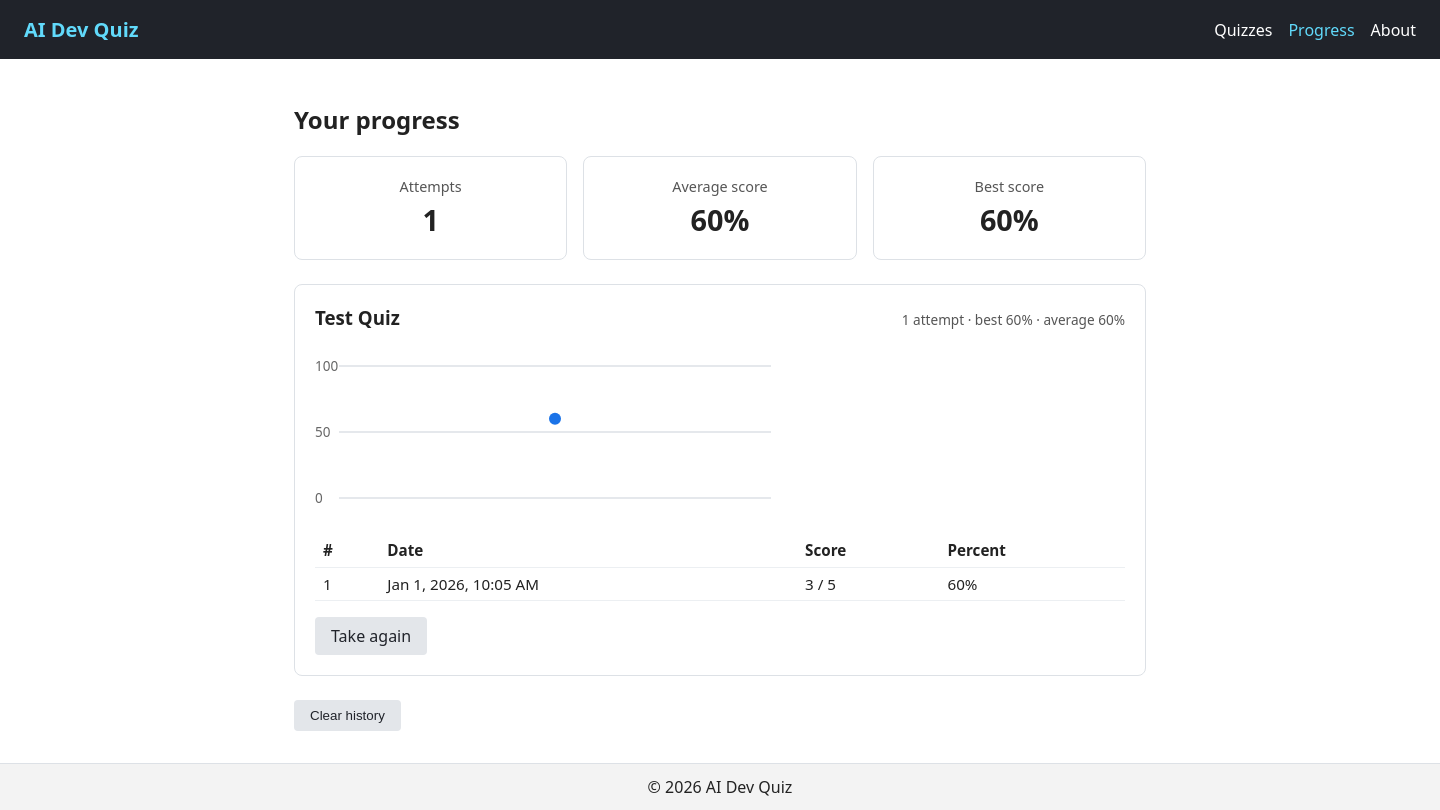
Test case: Progress page › clears history after confirmation
This screenshot has width=1440, height=810.
Click the button "Clear history".
click(347, 716)  # box [294,700,401,731]
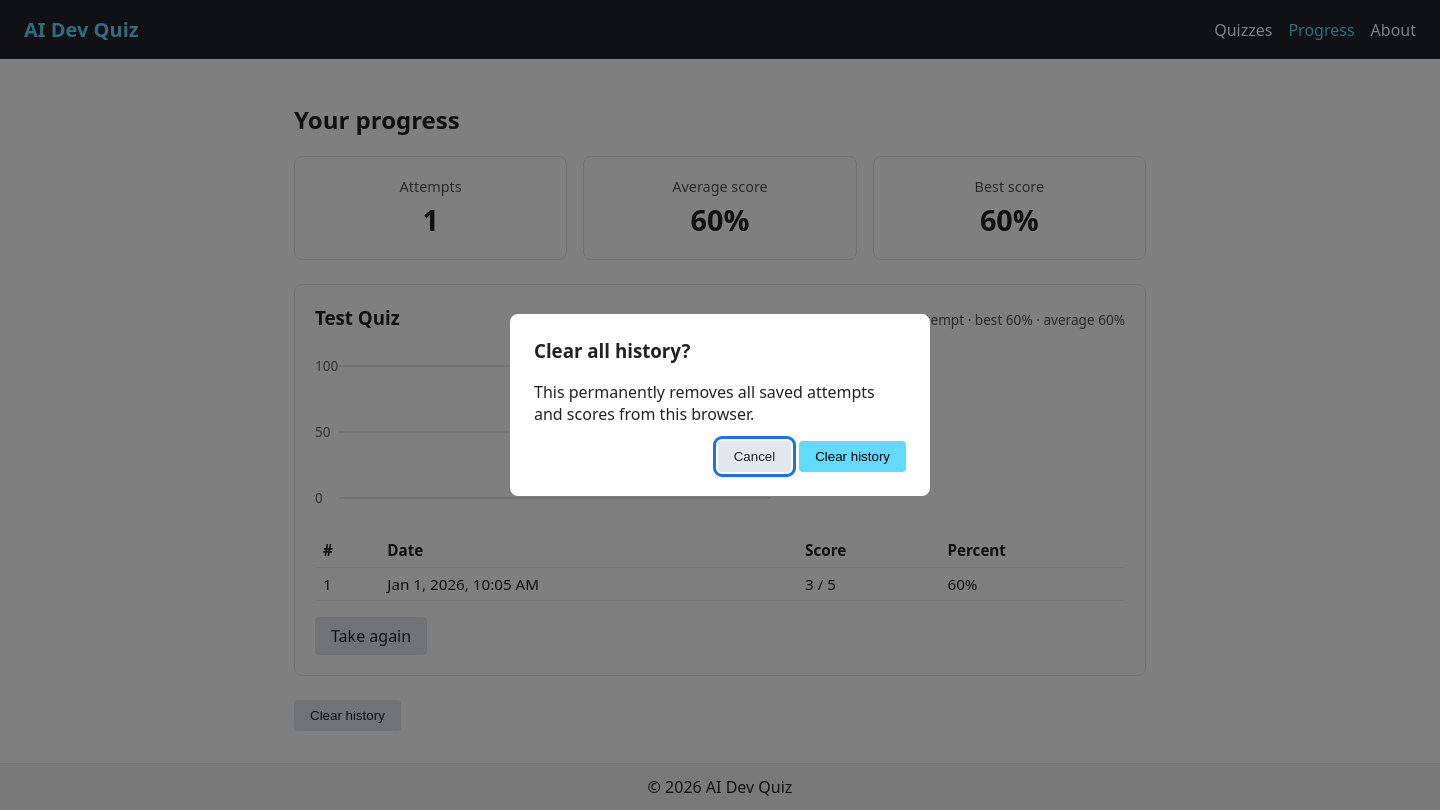
Click the button "Clear history" below "Clear all history?".
click(853, 457)  # box [799,441,906,472]
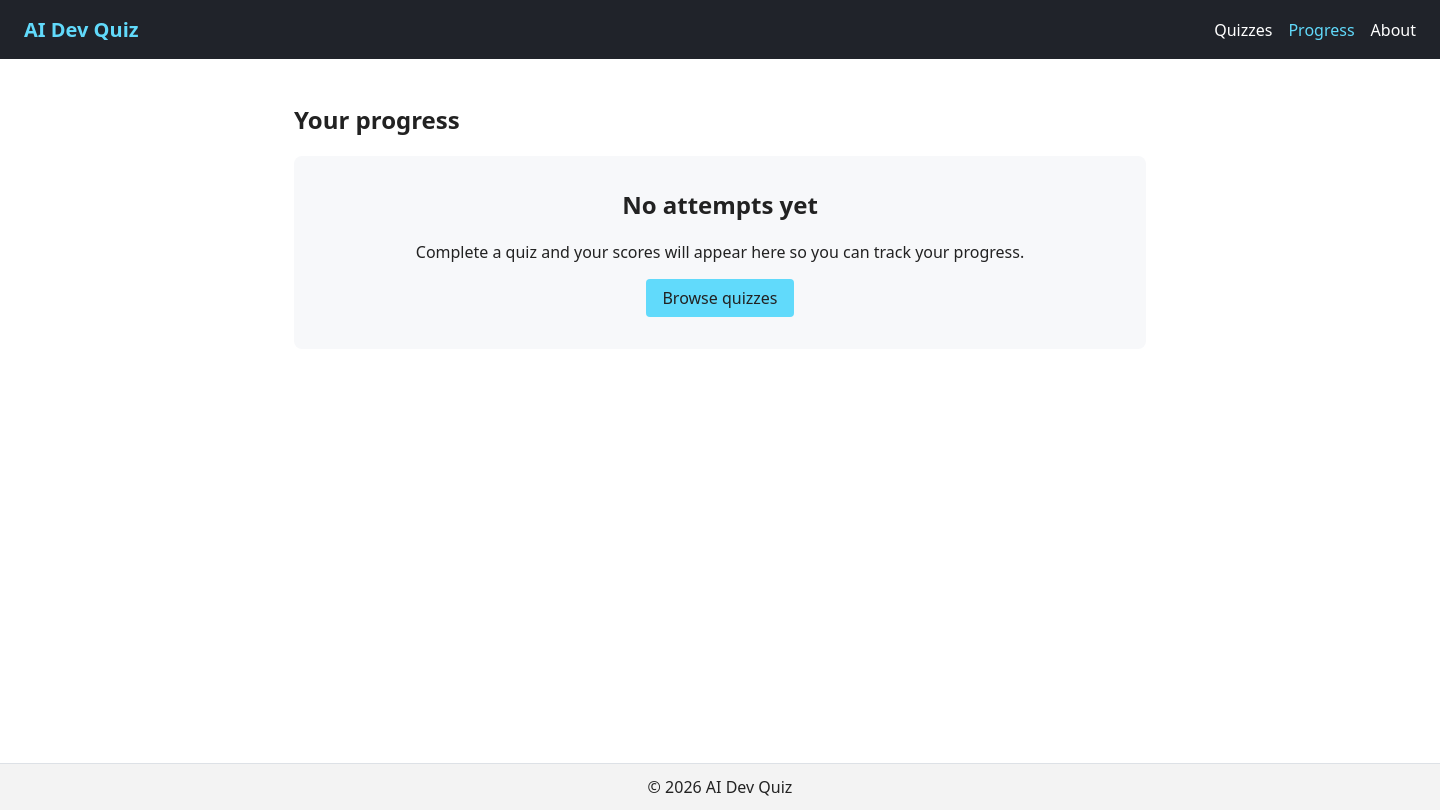
Now the heading "No attempts yet" is shown, box [622,188,818,221]
